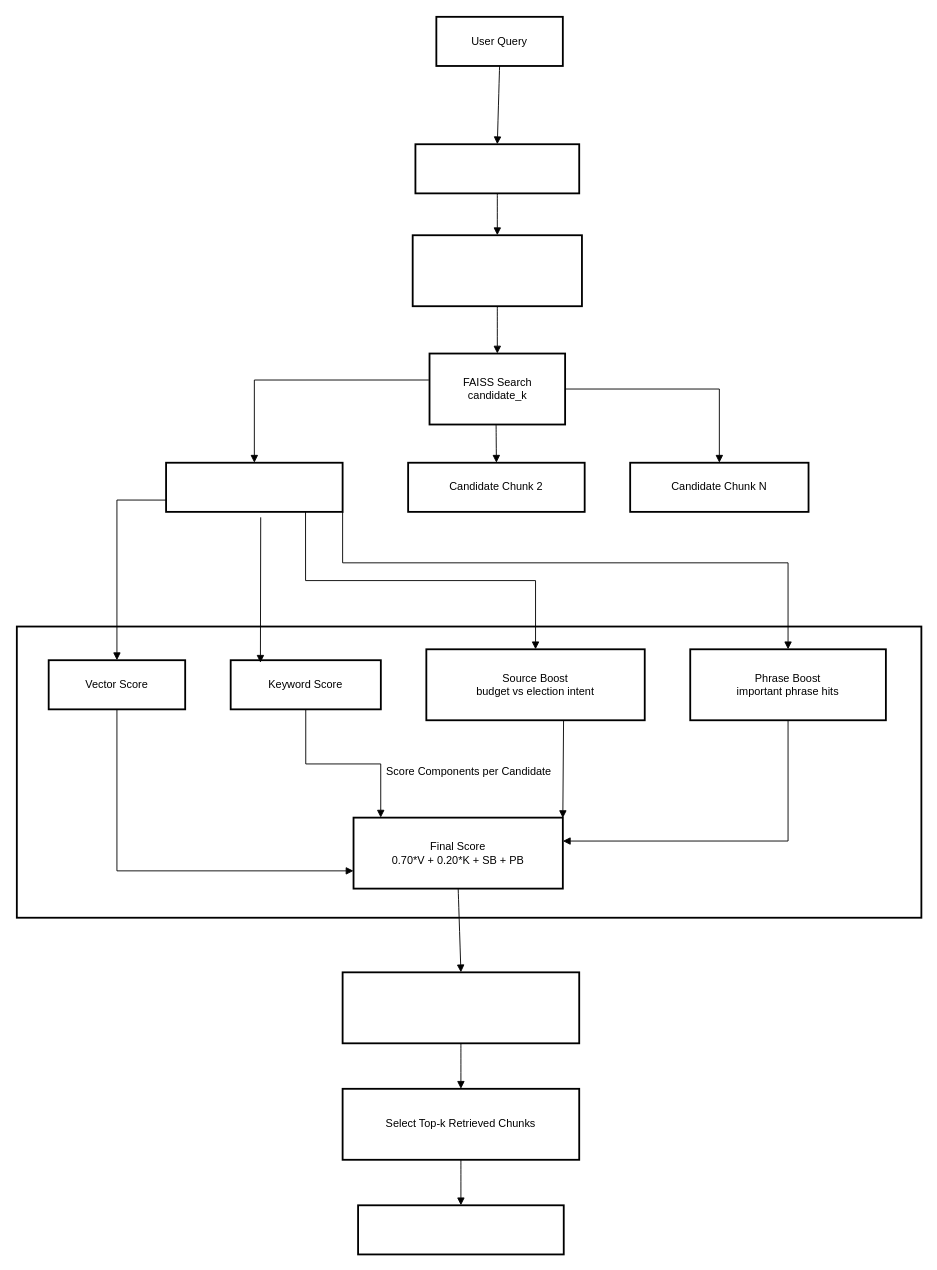
Some shapes in this 937 by 1270 pixel diagram are drawn without their labels. The box of each missing label's shape, as (x1, y1, x2, y2) in pixels:
Candidate Chunk 1: (165, 461, 343, 512)
Normalize Query: (414, 143, 580, 194)
Query Embedding all-MiniLM-L6-v2: (411, 234, 582, 307)
Send to Prompt Builder: (357, 1204, 564, 1255)
Sort Descending by Final Score: (341, 971, 580, 1044)
